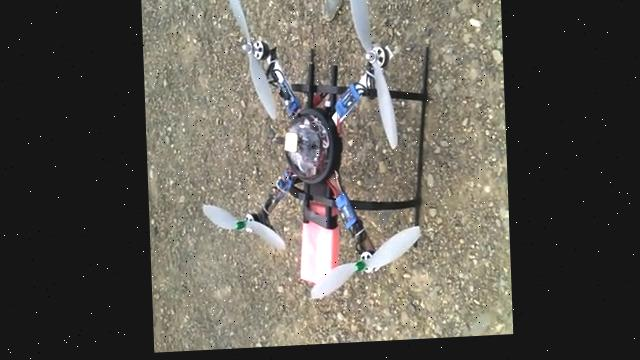drone: (190, 0, 437, 309)
